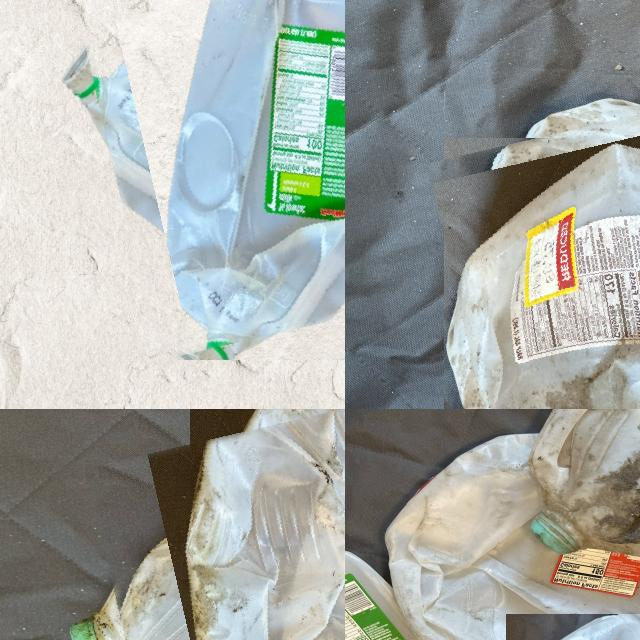milk-jug: (97, 0, 345, 344), (444, 98, 640, 409), (105, 409, 345, 640), (388, 431, 640, 640), (526, 409, 640, 564), (345, 551, 467, 640)
